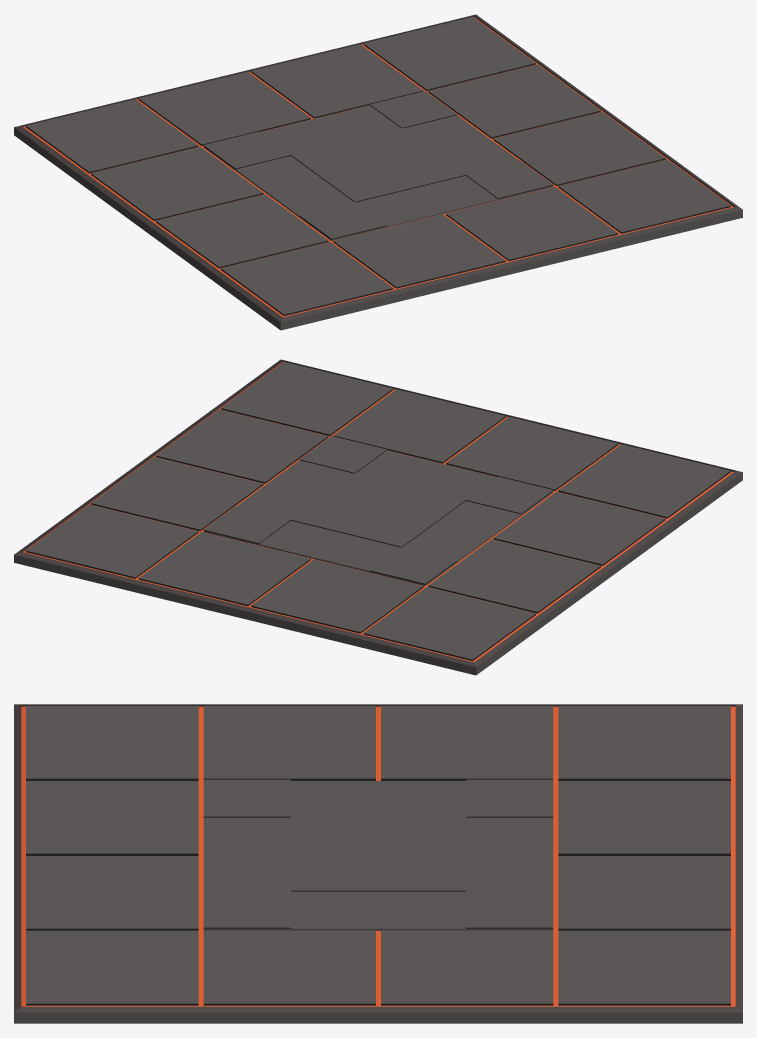
The model's file is Floor_Module_04.glb.
3 renders of one model, top to bottom at view 1: azimuth 30°, elevation 25°; view 2: azimuth 150°, elevation 25°; view 3: azimuth 270°, elevation 25°, orthographic. The views are drawn at different scales.
Parts seen in each view (by area): view 1: Floor_Module_04; view 2: Floor_Module_04; view 3: Floor_Module_04.
Part boxes in pixels (x1,y1,x2,y2): Floor_Module_04: [14, 14, 742, 330]; Floor_Module_04: [14, 359, 742, 675]; Floor_Module_04: [14, 704, 742, 1023].
Size of what is drawn, in the model's own units: 3 by 0.0723 by 3.
1 material, 1 textured.
